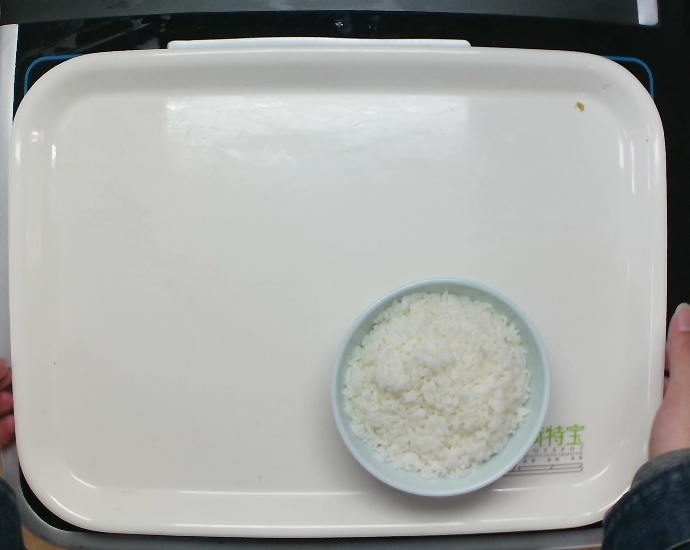JYsf-Fan_Wan: (329, 276, 552, 498)
